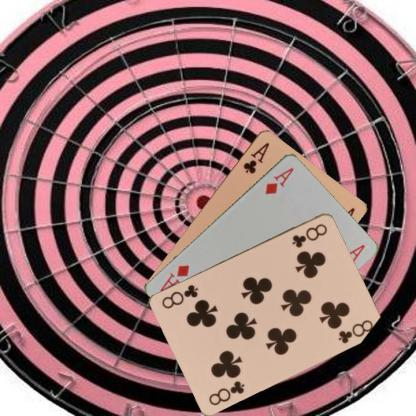8c: (289, 220, 329, 249), (206, 377, 246, 406)
Ac: (240, 139, 270, 175)
Ad: (262, 164, 295, 196)
